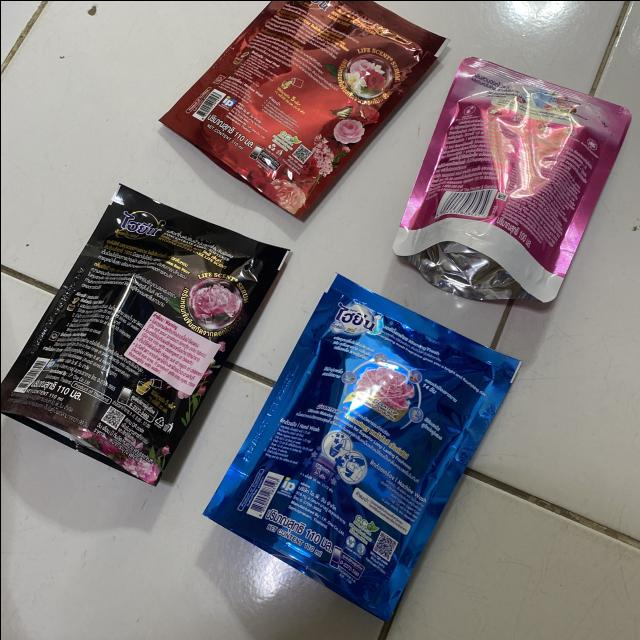plastik: (204, 274, 519, 619), (0, 184, 287, 484), (159, 0, 446, 215), (393, 56, 630, 301)
